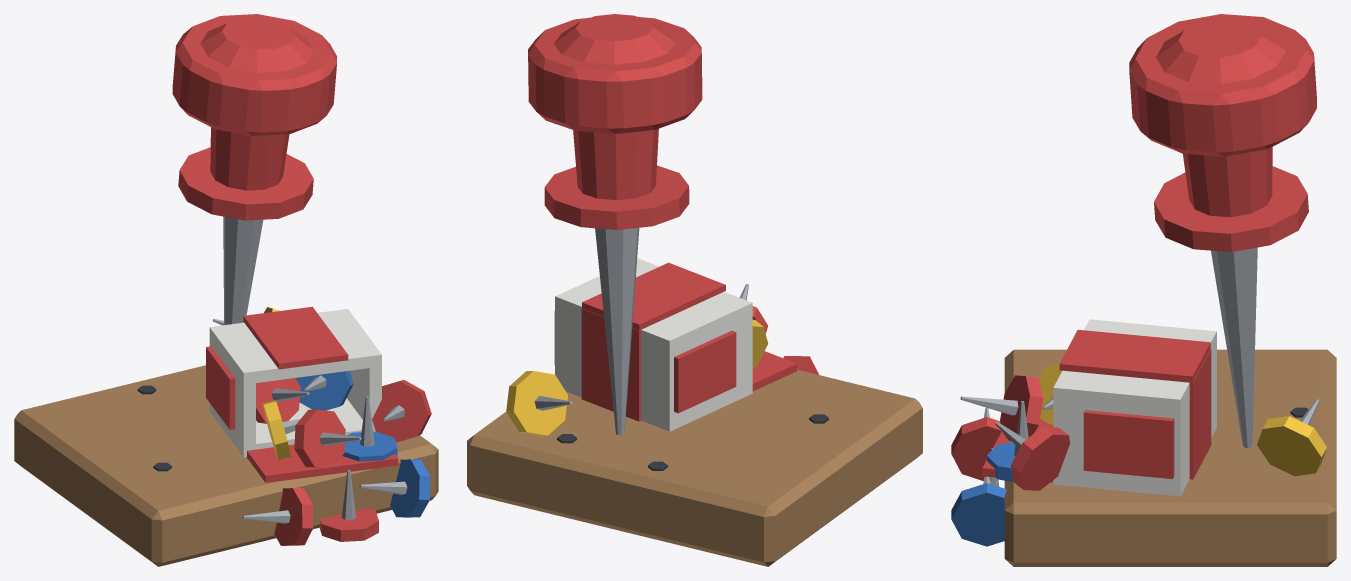
File: thumbtacks_core.glb
3 renders of one model, left to right at view 1: azimuth 30°, elevation 25°; view 2: azimuth 150°, elevation 25°; view 3: azimuth 270°, elevation 25°, orthographic. The views are drawn at different scales.
Visible parts, largest first — view 1: thumbtacks_core_mesh; view 2: thumbtacks_core_mesh; view 3: thumbtacks_core_mesh.
Part boxes in pixels (left/top/right/bottom): thumbtacks_core_mesh: left=14, top=14, right=438, bottom=566; thumbtacks_core_mesh: left=467, top=14, right=922, bottom=566; thumbtacks_core_mesh: left=951, top=14, right=1336, bottom=566.
Bounding box in the file's own units: 0.64 × 0.903 × 0.65.
